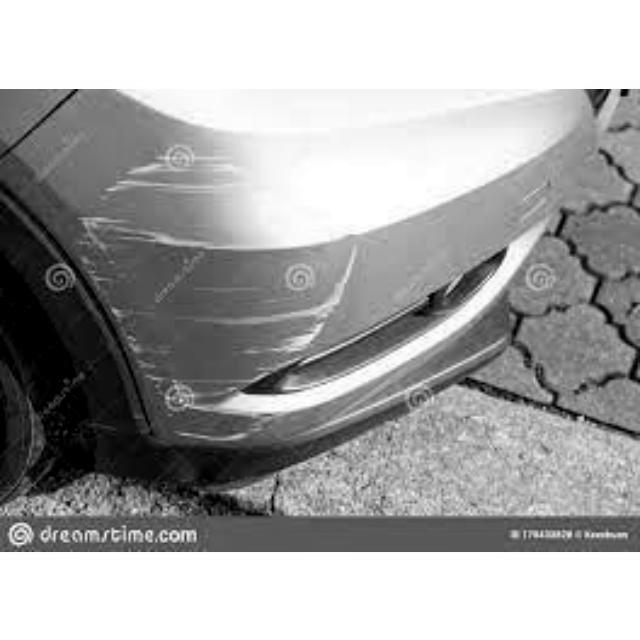front-bumper-dent: (60, 134, 572, 423)
